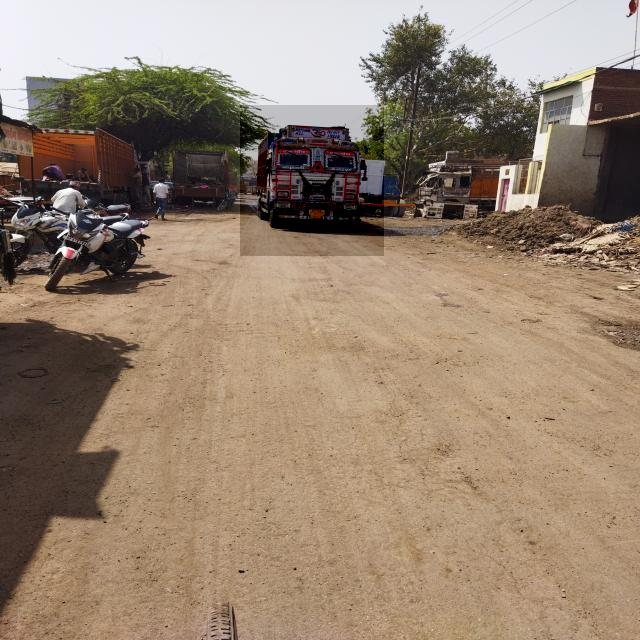Truck: (240, 105, 384, 256)
